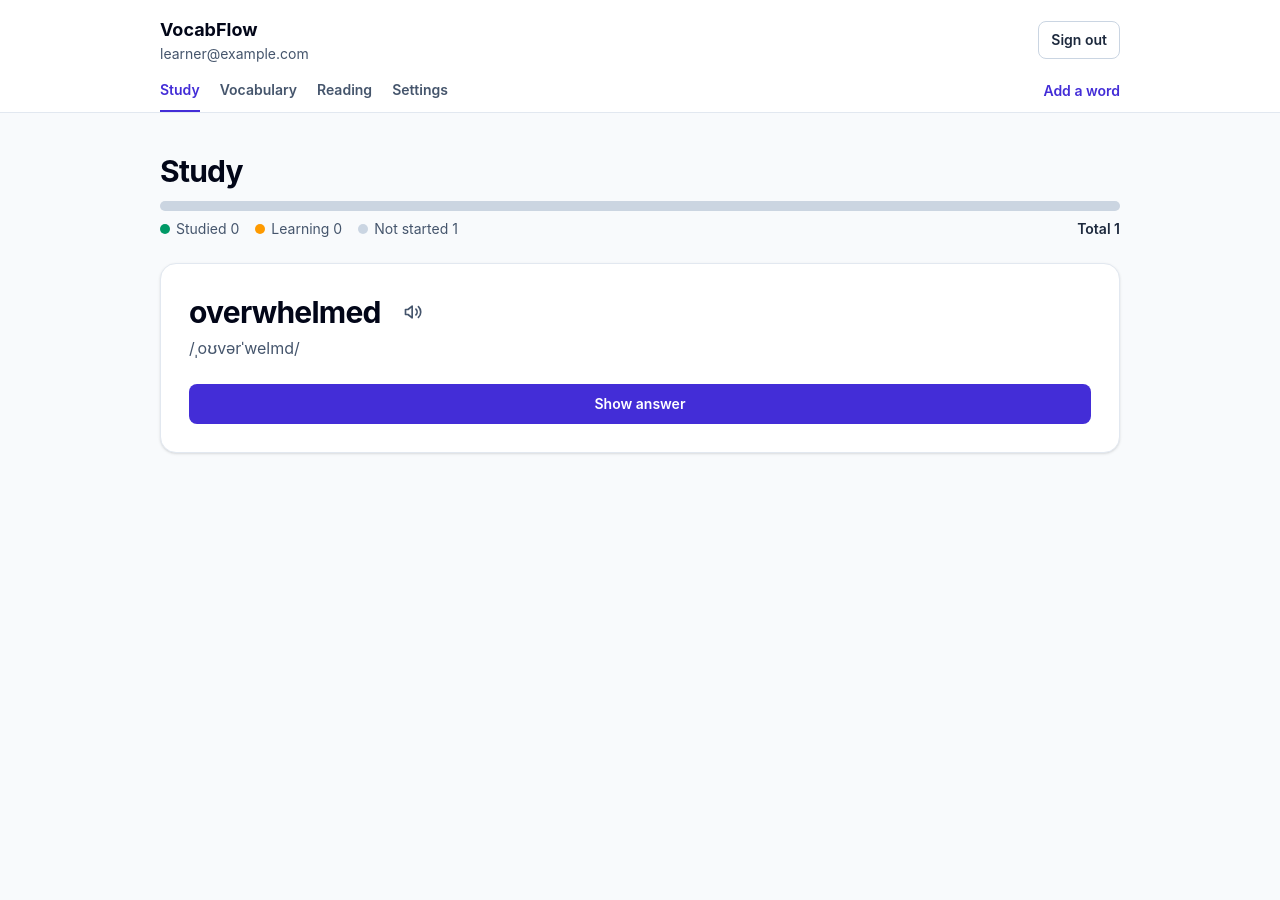
it: sends the rating with the card’s version and today’s date, then moves on to the next card
Step 1. Click the button "Show answer" → (640,404), box left=189, top=384, right=1091, bottom=424
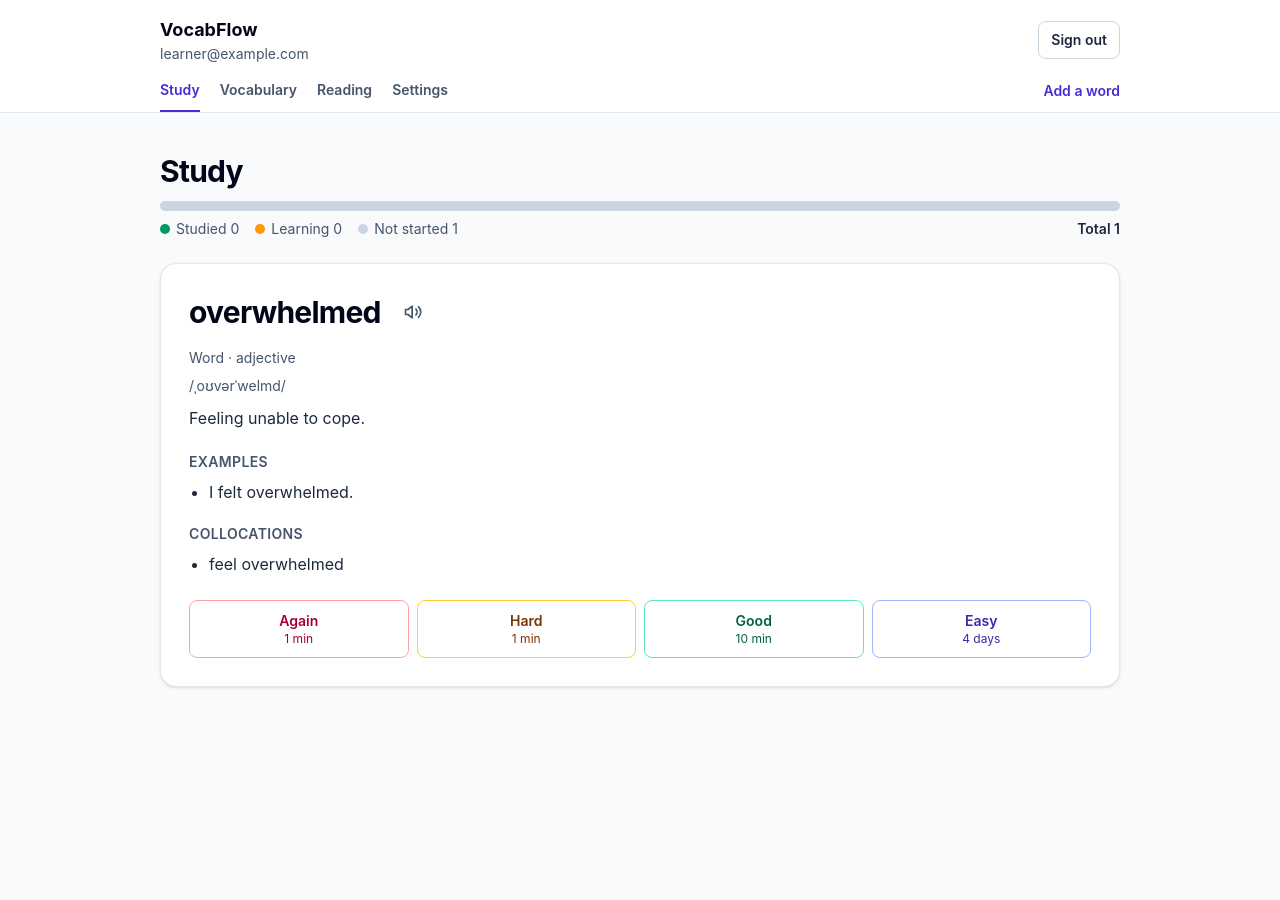
Step 2. Click the button "Good 10 min" → (754,629), box left=644, top=600, right=864, bottom=658
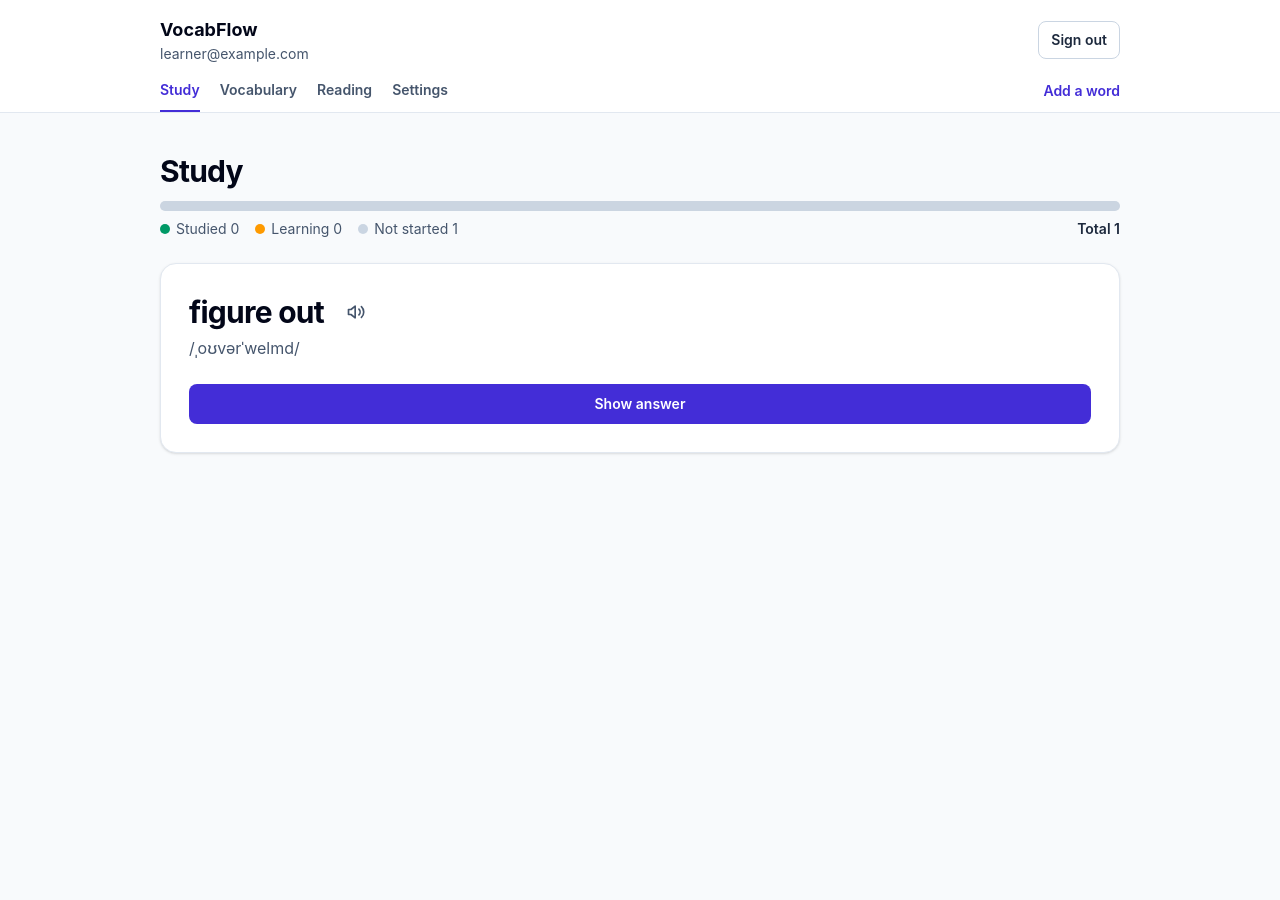
expect the button "Show answer" is shown: met, box left=189, top=384, right=1091, bottom=424
